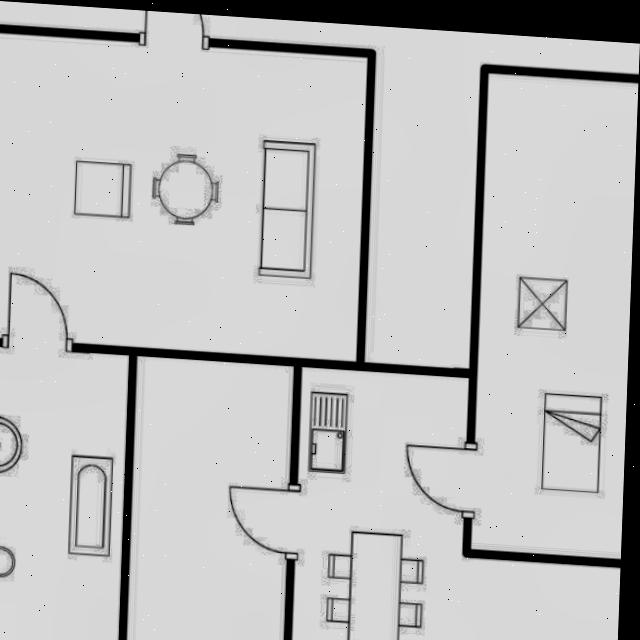room: (0, 32, 377, 361), (292, 366, 628, 640), (471, 72, 639, 558), (0, 346, 129, 640)
